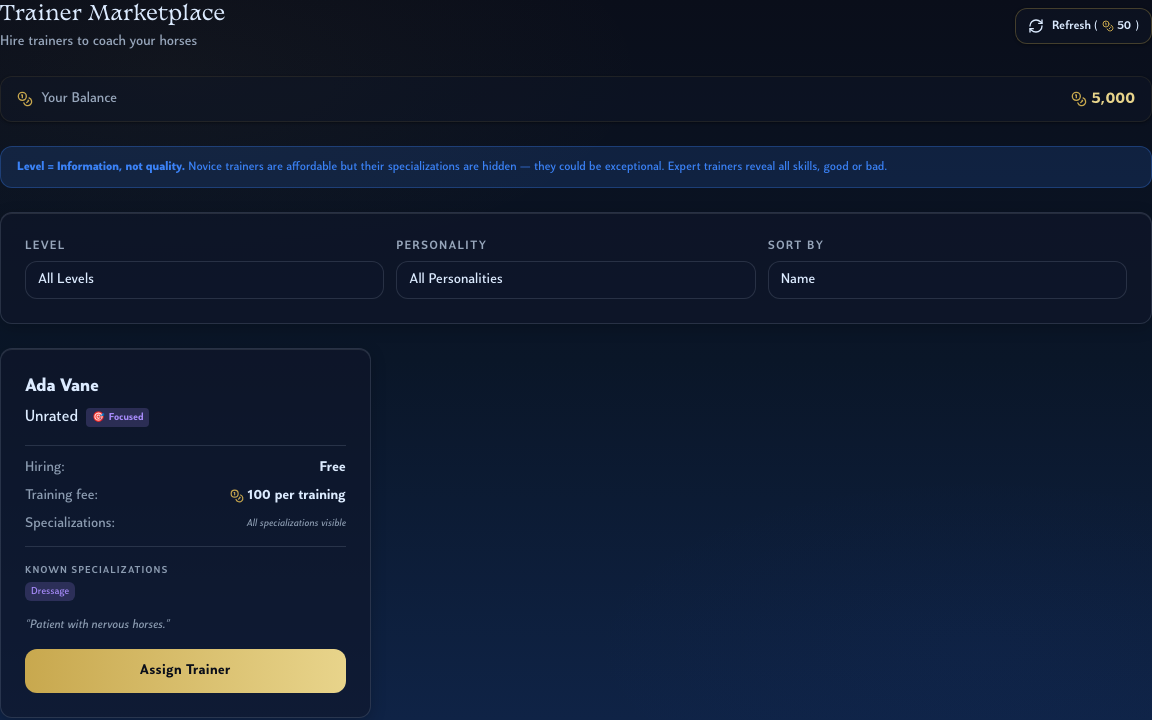
TrainerList — refusal codes (Equoria-dosig) › a full roster is named as a full roster, not as a short balance
Click the button with test id "hire-button-mk-1": [185, 671] box x1=25 y1=649 x2=346 y2=693
(page scrolled)
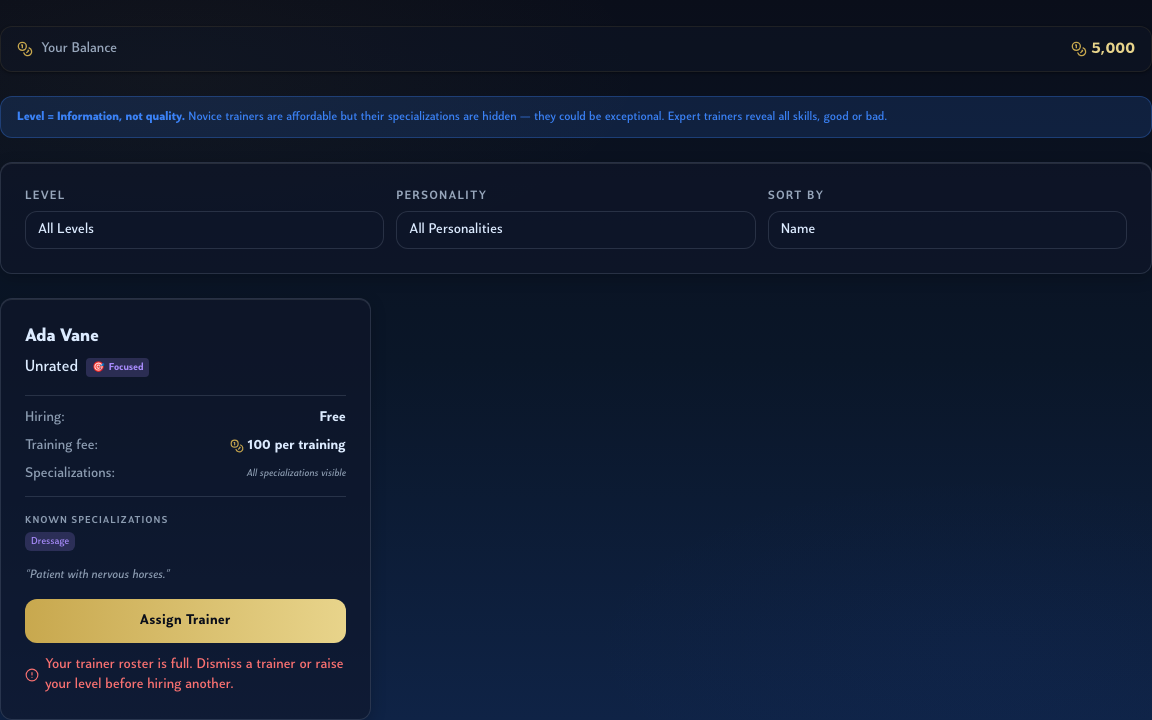
Expected: the message does not show "retire", x1=25 y1=655 x2=346 y2=695
Expected: the message shows "trainer roster is full", x1=45 y1=657 x2=344 y2=692
Expected: the message shows "Dismiss a trainer", x1=45 y1=657 x2=344 y2=692
